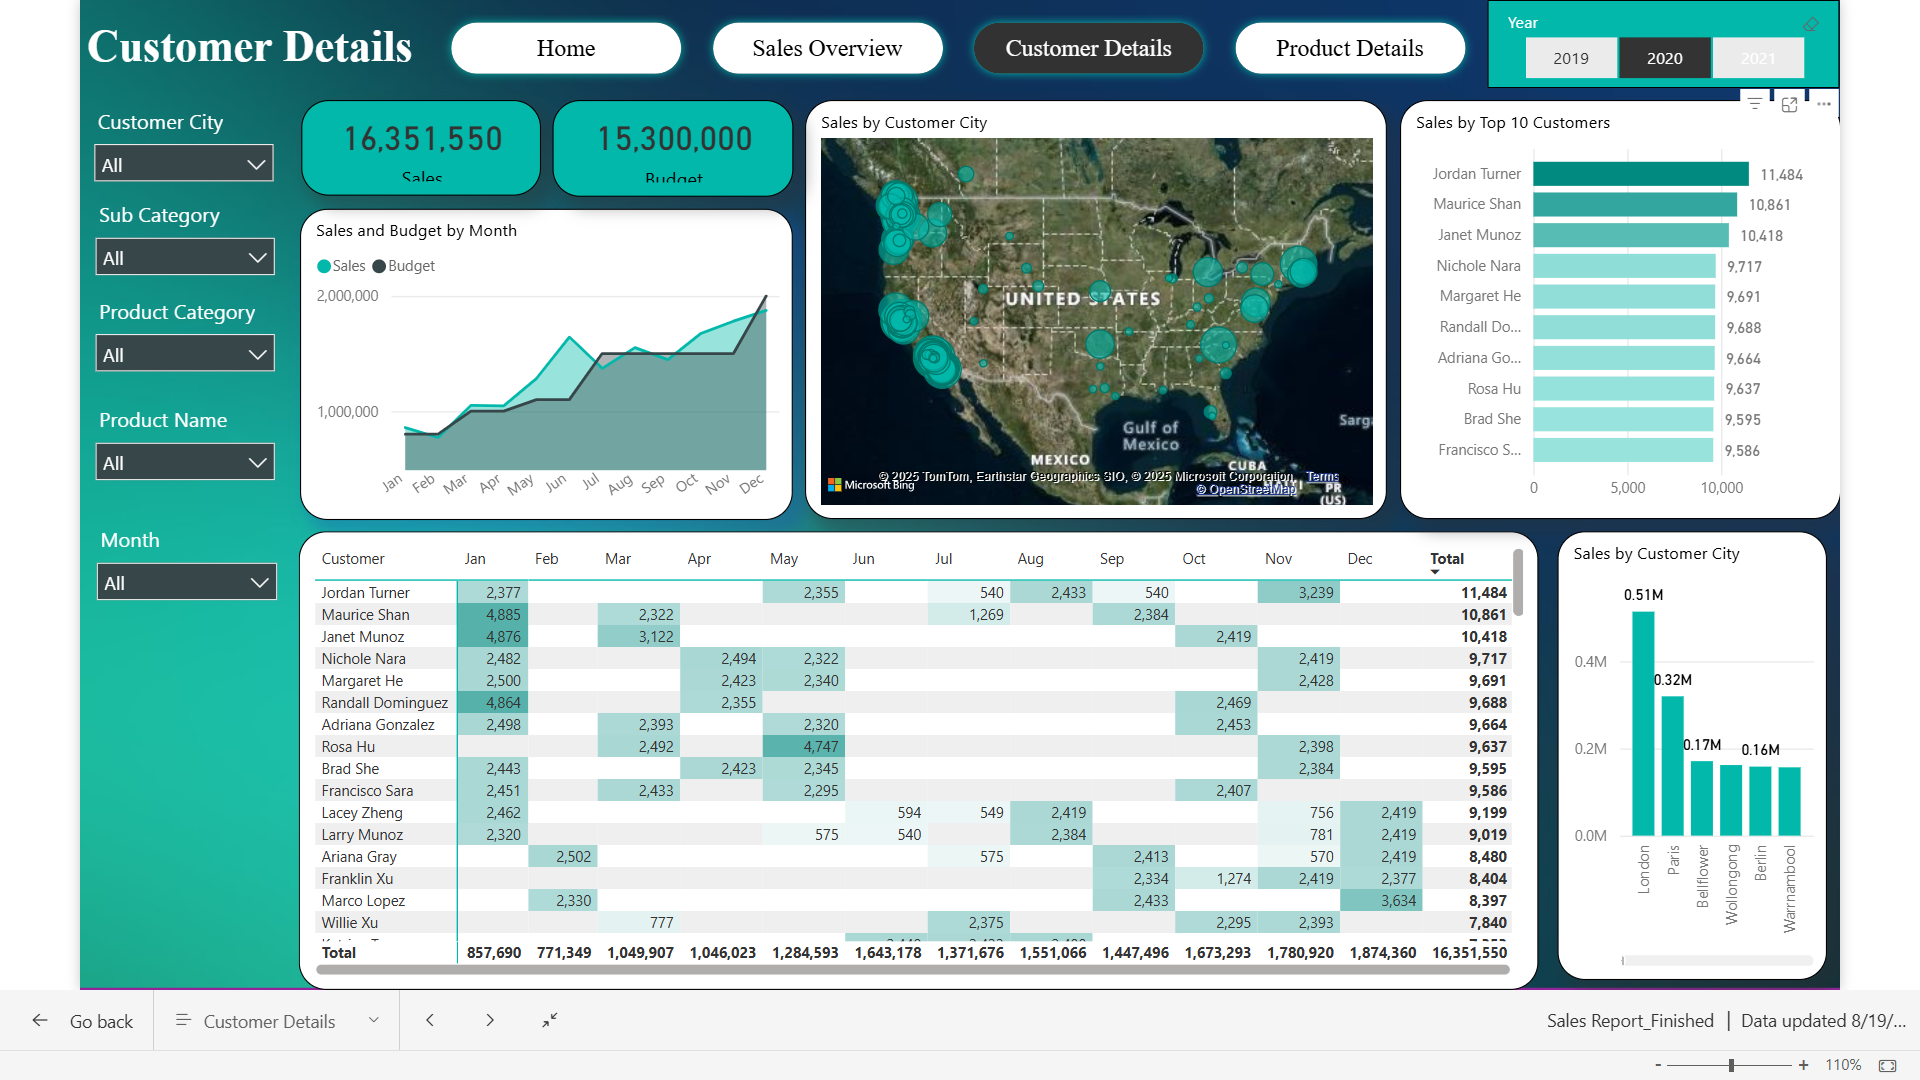

The dashboard page shown, as its layout file describes it:
{"tool":"powerbi","page":{"name":"Customer Details","canvas":[1280,720],"ordinal":2},"visuals":[{"type":"textbox","box":[0,10,267.5,53.8],"z":0},{"type":"slicer","fields":{"Values":["DIM_Customers.Customer City"]},"box":[0,72.4,150.9,78.5],"z":2000},{"type":"lineChart","fields":{"Category":["DIM_Calendar.MonthShort"],"Y":["Analysis Metrics.Sales","Analysis Metrics.Budget"]},"box":[159.8,151.8,358.7,226.4],"z":3000},{"type":"card","fields":{"Values":["Analysis Metrics.Sales"]},"box":[160.7,72.8,174,69.2],"z":4000},{"type":"map","fields":{"Category":["DIM_Customers.Customer City"],"Size":["Analysis Metrics.Sales"]},"box":[527.3,72.8,423.5,304.5],"z":5000},{"type":"card","fields":{"Values":["Analysis Metrics.Budget"]},"box":[343.6,72.8,174.9,70.1],"z":6000},{"type":"pivotTable","fields":{"Rows":["DIM_Customers.Full Name"],"Columns":["DIM_Calendar.MonthShort"],"Values":["Analysis Metrics.Sales"]},"box":[159.5,386.5,901.8,333.7],"z":7000},{"type":"barChart","title":"Sales by Top 10 Customers","fields":{"Category":["DIM_Customers.Full Name"],"Y":["Analysis Metrics.Sales"]},"box":[959.7,72.8,320.5,304.5],"z":8000},{"type":"slicer","fields":{"Values":["DIM_Products.Sub Category"]},"box":[1.2,141.1,150.9,78.5],"z":9000},{"type":"slicer","fields":{"Values":["DIM_Products.Product Category"]},"box":[1.2,211,150.9,78.5],"z":10000},{"type":"slicer","fields":{"Values":["DIM_Products.Product Name"]},"box":[1.2,289.6,150.9,81],"z":11000},{"type":"columnChart","fields":{"Category":["DIM_Customers.Customer City"],"Y":["Analysis Metrics.Sales"]},"box":[1074.9,386.5,196.3,326.4],"z":12000},{"type":"slicer","fields":{"Values":["DIM_Calendar.Month"]},"box":[1.4,377.1,151.4,80],"z":13000},{"type":"pageNavigator","box":[263.8,10,753.8,50],"z":14000},{"type":"slicer","fields":{"Values":["DIM_Calendar.Year"]},"box":[1023.8,0,256.2,63.8],"z":14001}]}

Visuals, with their boxes on the page's 1280x720 design canvas (x1, y1, x2, y2). These are canvas units, not pixel positions in the 1920x1080 screenshot, which may show the page scaled, cropped or inside an application window:
textbox: region(0, 10, 268, 64)
slicer - DIM_Customers.Customer City: region(0, 72, 151, 151)
lineChart - DIM_Calendar.MonthShort x Analysis Metrics.Sales: region(160, 152, 518, 378)
card - Analysis Metrics.Sales: region(161, 73, 335, 142)
map - DIM_Customers.Customer City x Analysis Metrics.Sales: region(527, 73, 951, 377)
card - Analysis Metrics.Budget: region(344, 73, 518, 143)
pivotTable - DIM_Customers.Full Name x DIM_Calendar.MonthShort: region(160, 386, 1061, 720)
"Sales by Top 10 Customers" barChart: region(960, 73, 1280, 377)
slicer - DIM_Products.Sub Category: region(1, 141, 152, 220)
slicer - DIM_Products.Product Category: region(1, 211, 152, 290)
slicer - DIM_Products.Product Name: region(1, 290, 152, 371)
columnChart - DIM_Customers.Customer City x Analysis Metrics.Sales: region(1075, 386, 1271, 713)
slicer - DIM_Calendar.Month: region(1, 377, 153, 457)
pageNavigator: region(264, 10, 1018, 60)
slicer - DIM_Calendar.Year: region(1024, 0, 1280, 64)
